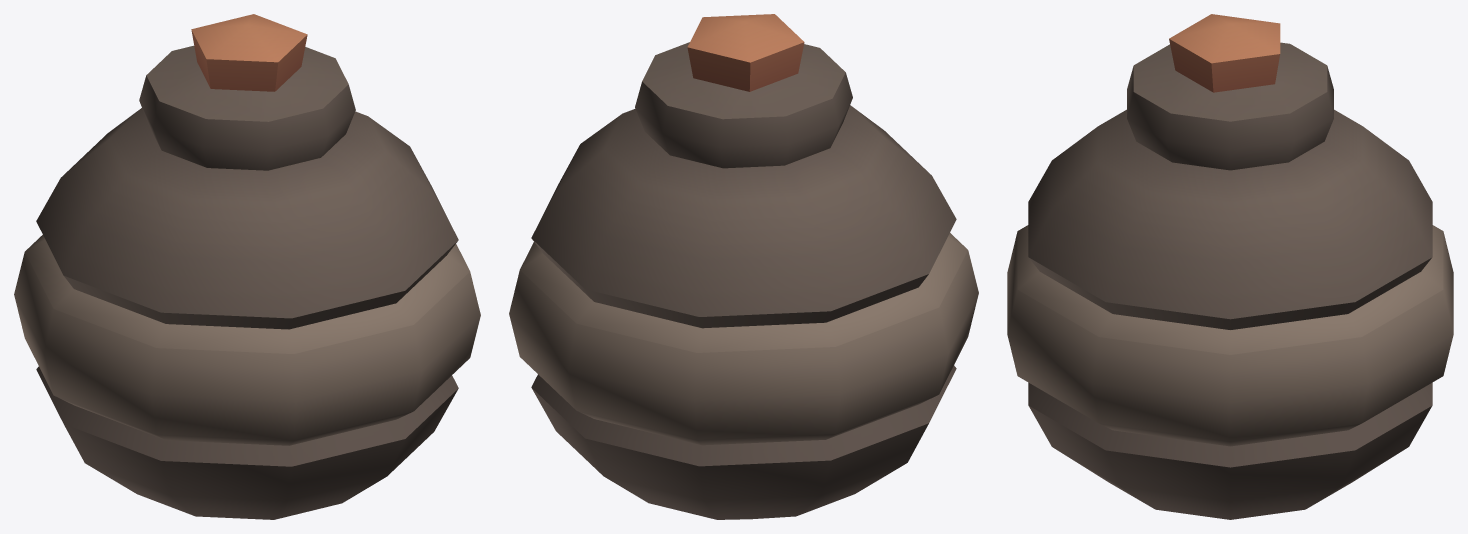
Rendered from smokebomb.fbx.
The picture shows the model from 3 angles, left to right: view 1: azimuth 30°, elevation 25°; view 2: azimuth 150°, elevation 25°; view 3: azimuth 270°, elevation 25°; orthographic projection.
Parts seen in each view (by area): view 1: smokebomb; view 2: smokebomb; view 3: smokebomb.
Part boxes in pixels (bbox=[...]): smokebomb: bbox=[14, 14, 480, 519]; smokebomb: bbox=[509, 14, 978, 519]; smokebomb: bbox=[1007, 14, 1453, 519].
Size of the model in its own units: 0.3327 by 0.3679 by 0.3164.
